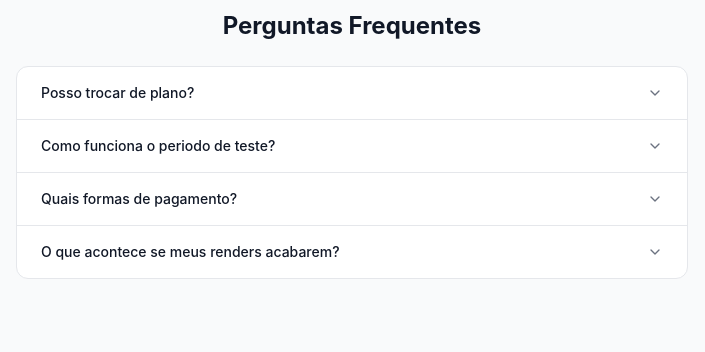
Test: PricingFAQ › collapses answer on second click
Click the button "Posso trocar de plano?" at (118, 92), box [17,67,687,119]
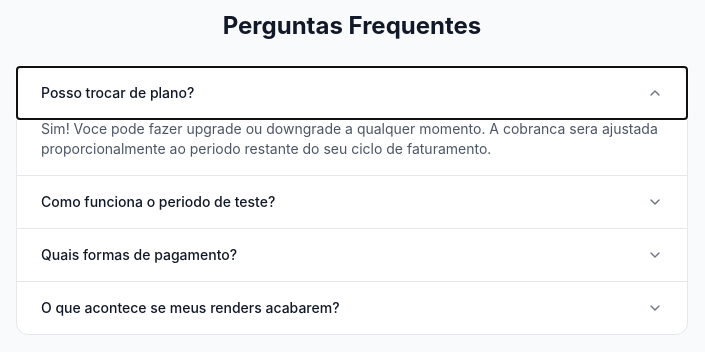
Check: the text "Sim! Voce pode fazer upgrade" is shown, box [41,120,658,157]
Click the button "Posso trocar de plano?" at (118, 92), box [17,67,687,119]
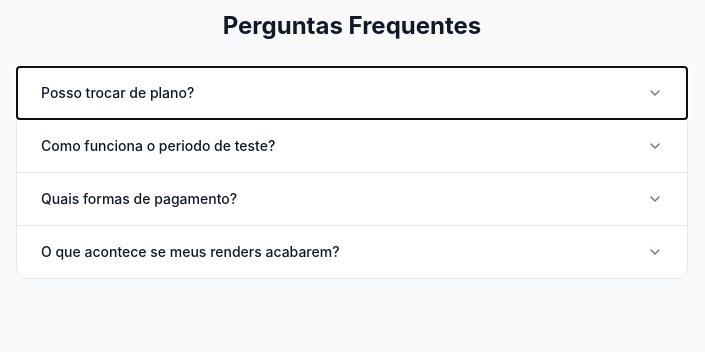
Check: the text "Sim! Voce pode fazer upgrade" is gone
